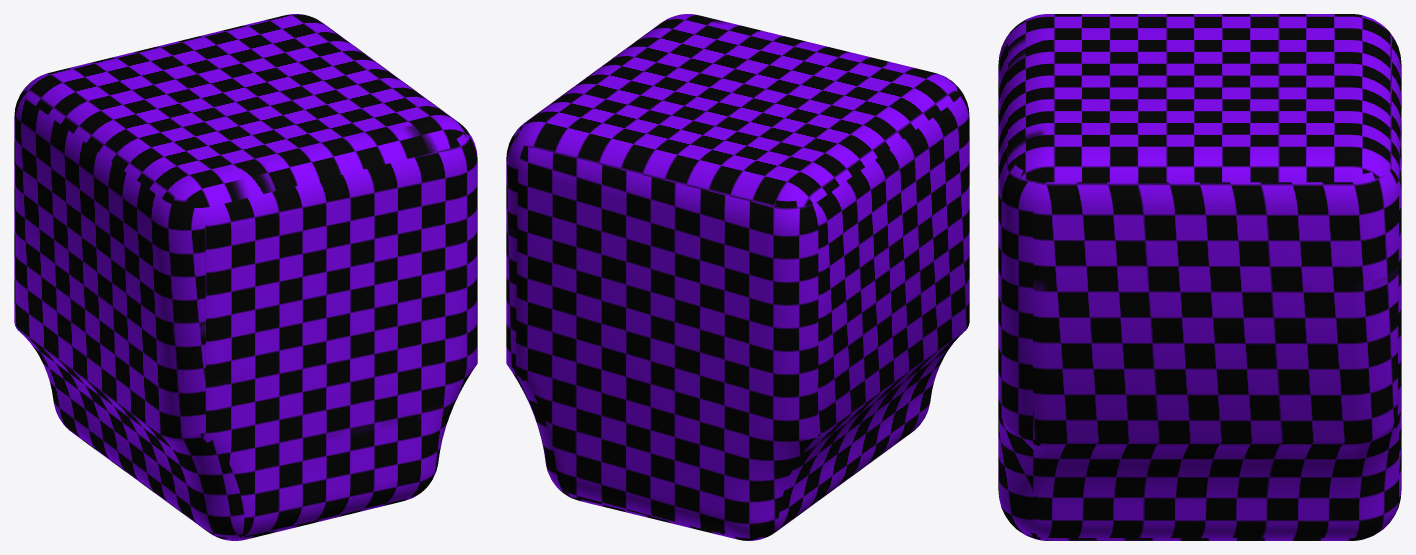
Rendered from BodySat.dae.
The picture shows the model from 3 angles, left to right: view 1: azimuth 30°, elevation 25°; view 2: azimuth 150°, elevation 25°; view 3: azimuth 270°, elevation 25°; orthographic projection. The views are drawn at different scales.
Visible parts, largest first — view 1: node_9517ce03_2d87_4bd1_a692_c0085c321edb_mesh0; view 2: node_9517ce03_2d87_4bd1_a692_c0085c321edb_mesh0; view 3: node_9517ce03_2d87_4bd1_a692_c0085c321edb_mesh0.
Part boxes in pixels (bbox=[...]): node_9517ce03_2d87_4bd1_a692_c0085c321edb_mesh0: bbox=[14, 14, 477, 540]; node_9517ce03_2d87_4bd1_a692_c0085c321edb_mesh0: bbox=[506, 14, 969, 540]; node_9517ce03_2d87_4bd1_a692_c0085c321edb_mesh0: bbox=[998, 14, 1401, 540].
Size of the model in its own units: 0.4 by 0.4 by 0.45.
Materials: 1 (1 with a texture image).
